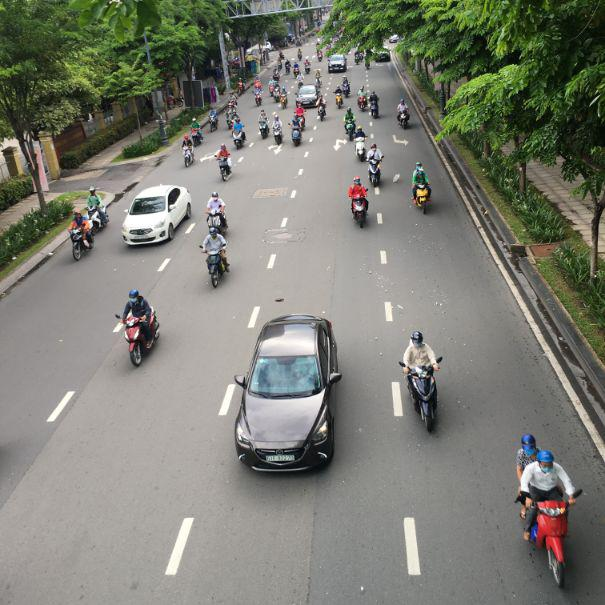car: (232, 317, 343, 474), (121, 183, 193, 247), (296, 85, 318, 108), (328, 56, 346, 72)
motorbike: (524, 496, 571, 590), (404, 364, 439, 433), (120, 313, 162, 368), (69, 222, 93, 262), (206, 250, 231, 287), (351, 196, 370, 229), (215, 155, 234, 183), (413, 184, 430, 213), (273, 115, 284, 145), (183, 144, 195, 168)
